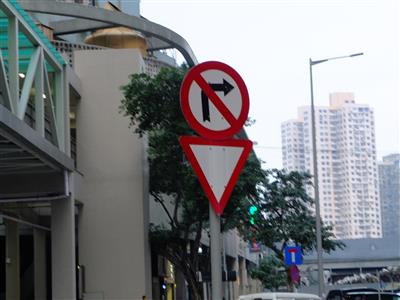deadEnd: (283, 245, 301, 264)
noRightTurn: (178, 59, 250, 140)
noStopping: (290, 265, 299, 282)
yield: (176, 132, 255, 215)
